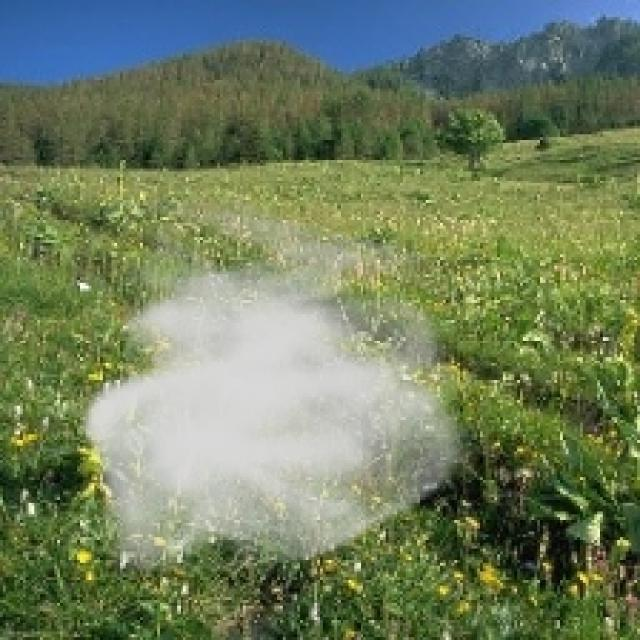smoke: (77, 191, 480, 583)
